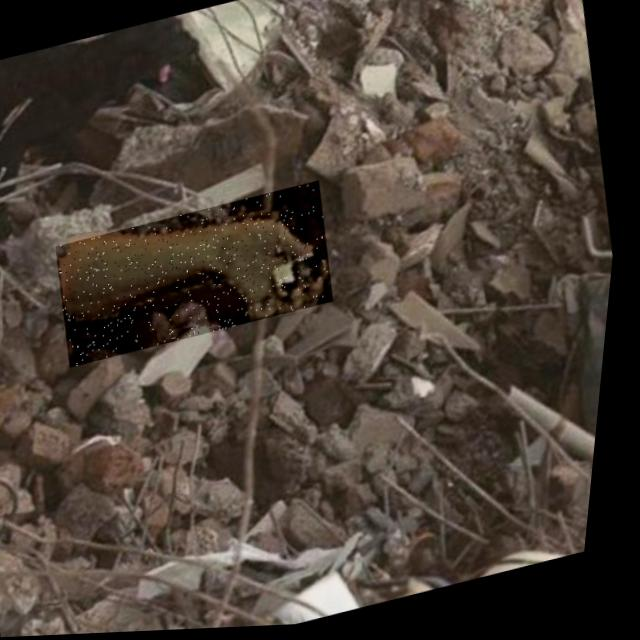Person in Rubble: (50, 182, 347, 369)
